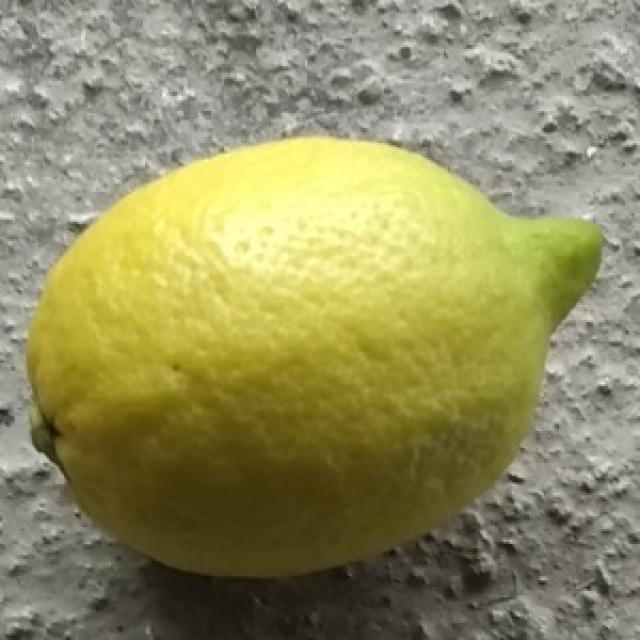Lemon: (25, 133, 608, 583)
